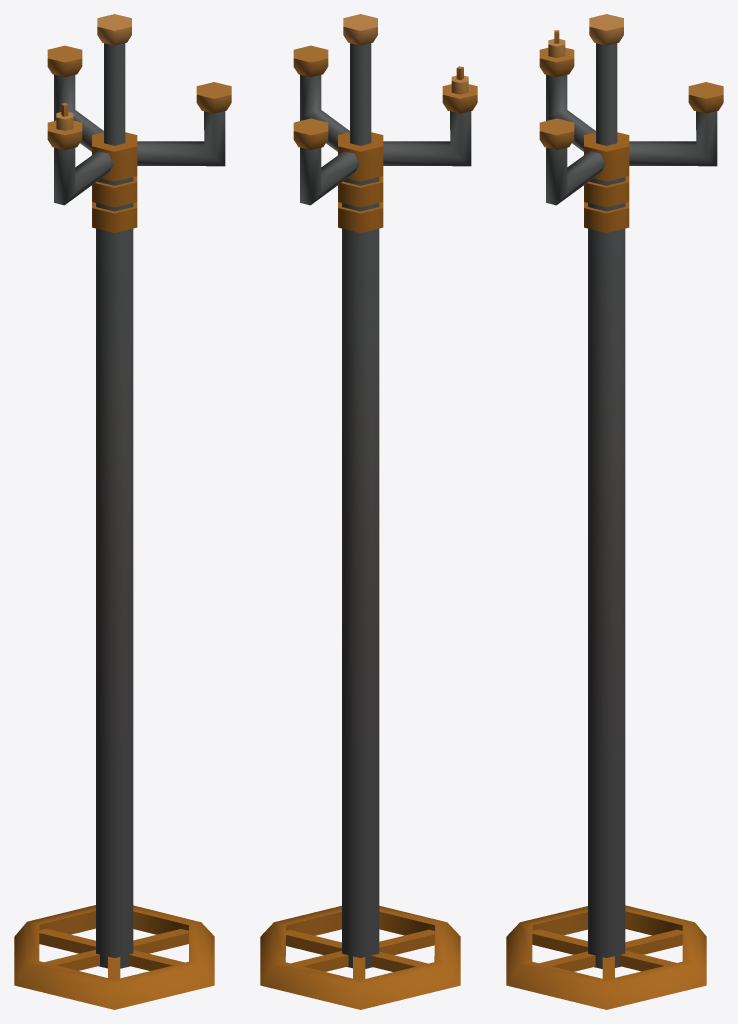
Rendered from Candle_Stand_02.fbx.
3 views of the same model, side by side, from view 1: azimuth 30°, elevation 25°; view 2: azimuth 150°, elevation 25°; view 3: azimuth 270°, elevation 25° (orthographic).
Visible parts, largest first — view 1: Candle_Stand_02; view 2: Candle_Stand_02; view 3: Candle_Stand_02.
Part boxes in pixels (box(x1,y1,x2,y2)): Candle_Stand_02: box(14, 14, 231, 1009); Candle_Stand_02: box(260, 14, 477, 1009); Candle_Stand_02: box(506, 14, 723, 1009).
Bounding box in the file's own units: 40.76 × 182 × 38.25.
